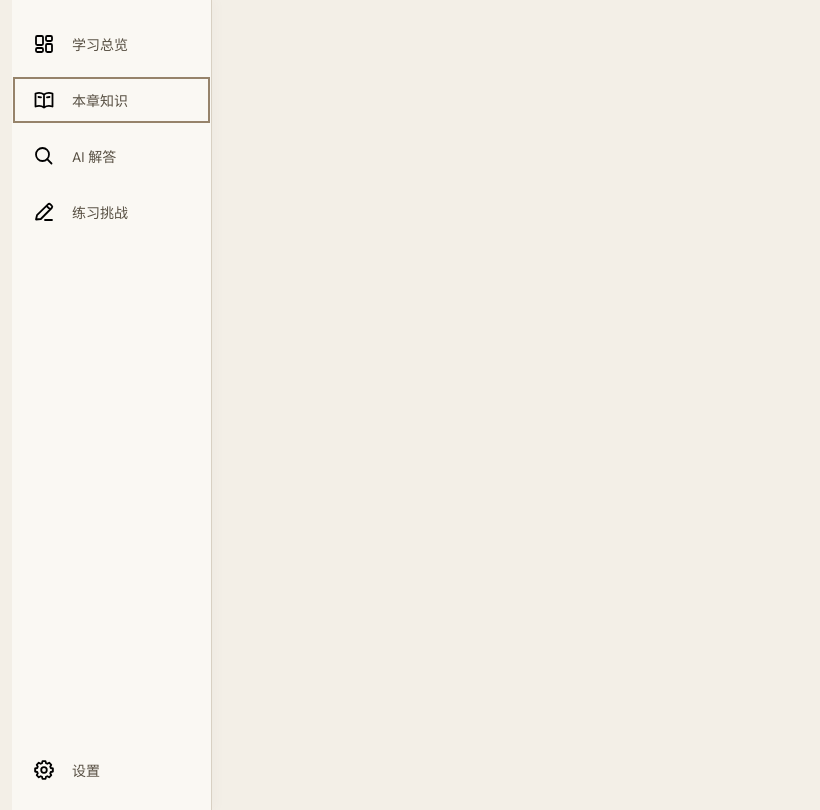
Test case: opens knowledge only on click, navigates available knowledge and keeps unavailable entries inert and maps menu actions
The width and height of the screenshot is (820, 810).
Later steps or results of the test are not shown.
Click the button "本章知识".
click(112, 100)  # box [12,76,211,124]
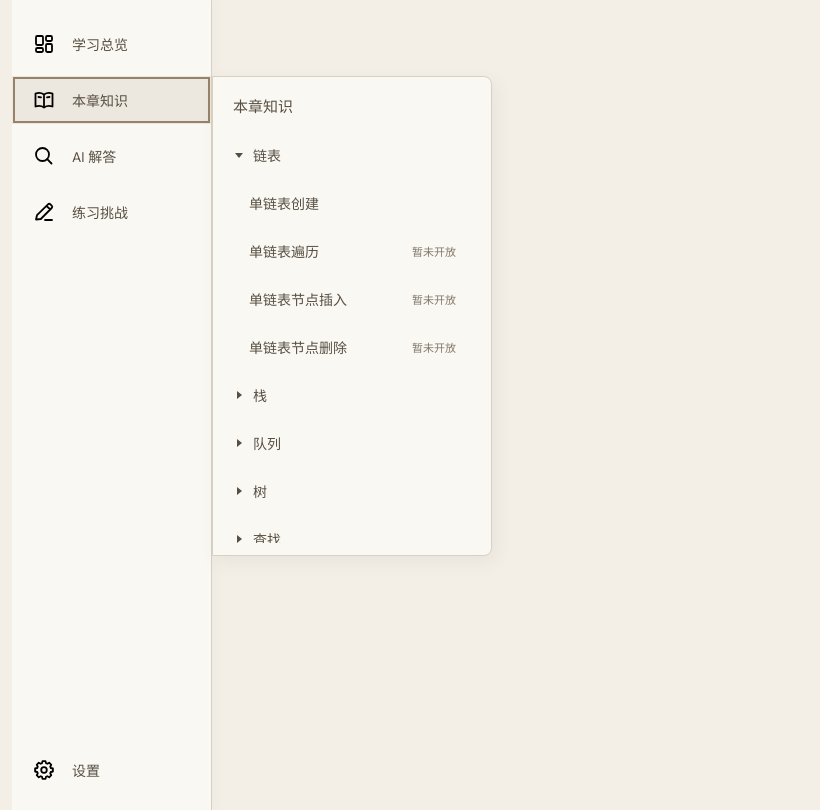
Now the heading "本章知识" is shown, box [233,97,293,117]
Now the number of list items is 4
Click the button "单链表创建".
click(352, 203)  # box [241,179,464,227]
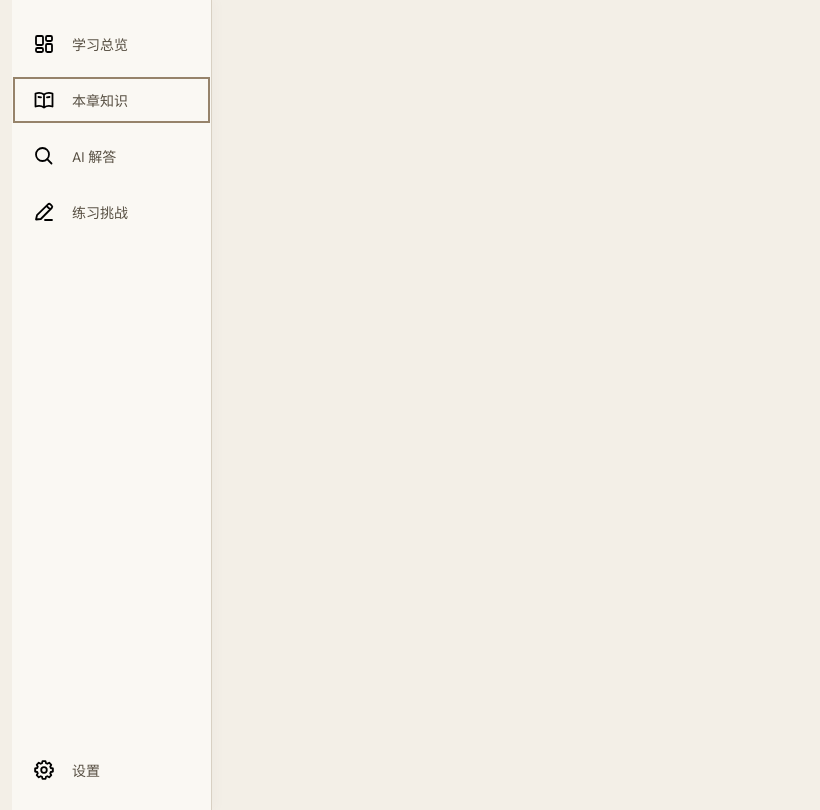
Now the element with id "chapter-knowledge" is gone
Click the button "本章知识".
click(112, 100)  # box [12,76,211,124]
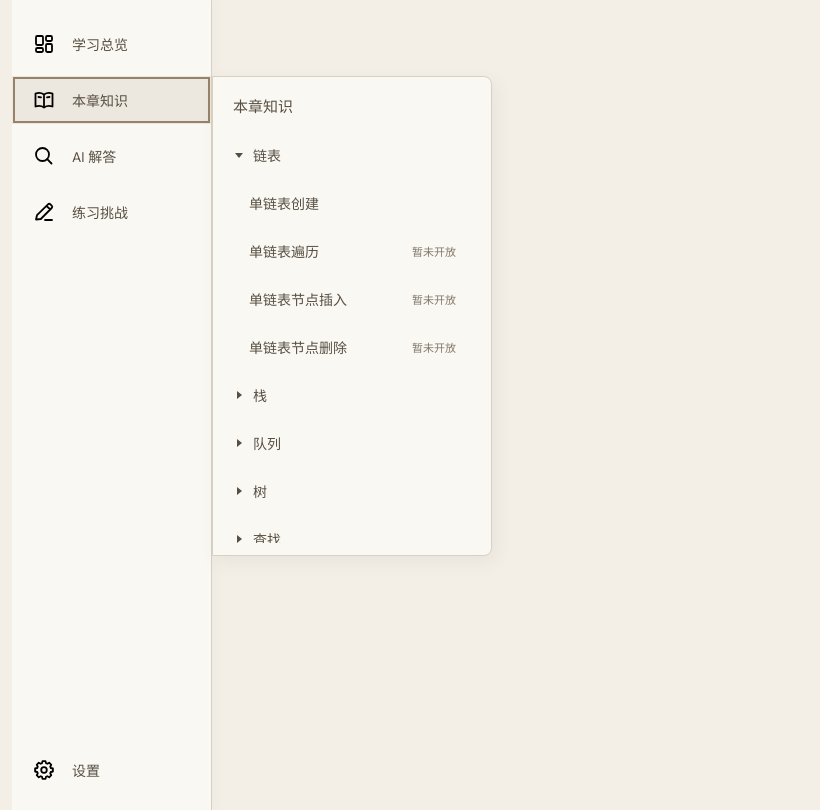
Click the button "单链表遍历 暂未开放".
click(352, 251)  # box [241,227,464,275]
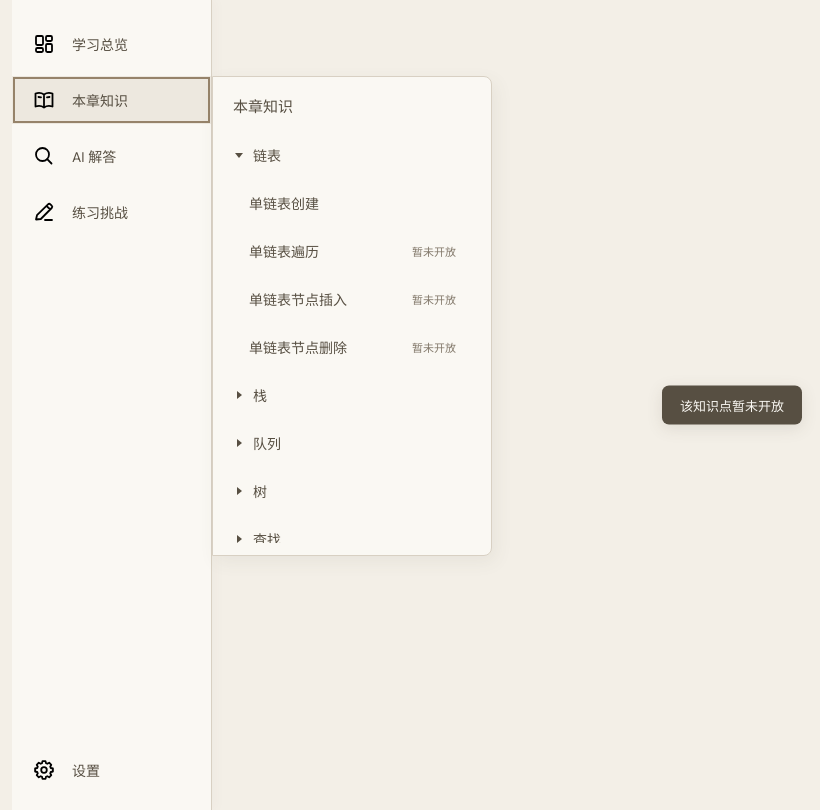
Now the message "该知识点暂未开放" is shown, box [662,386,802,424]
